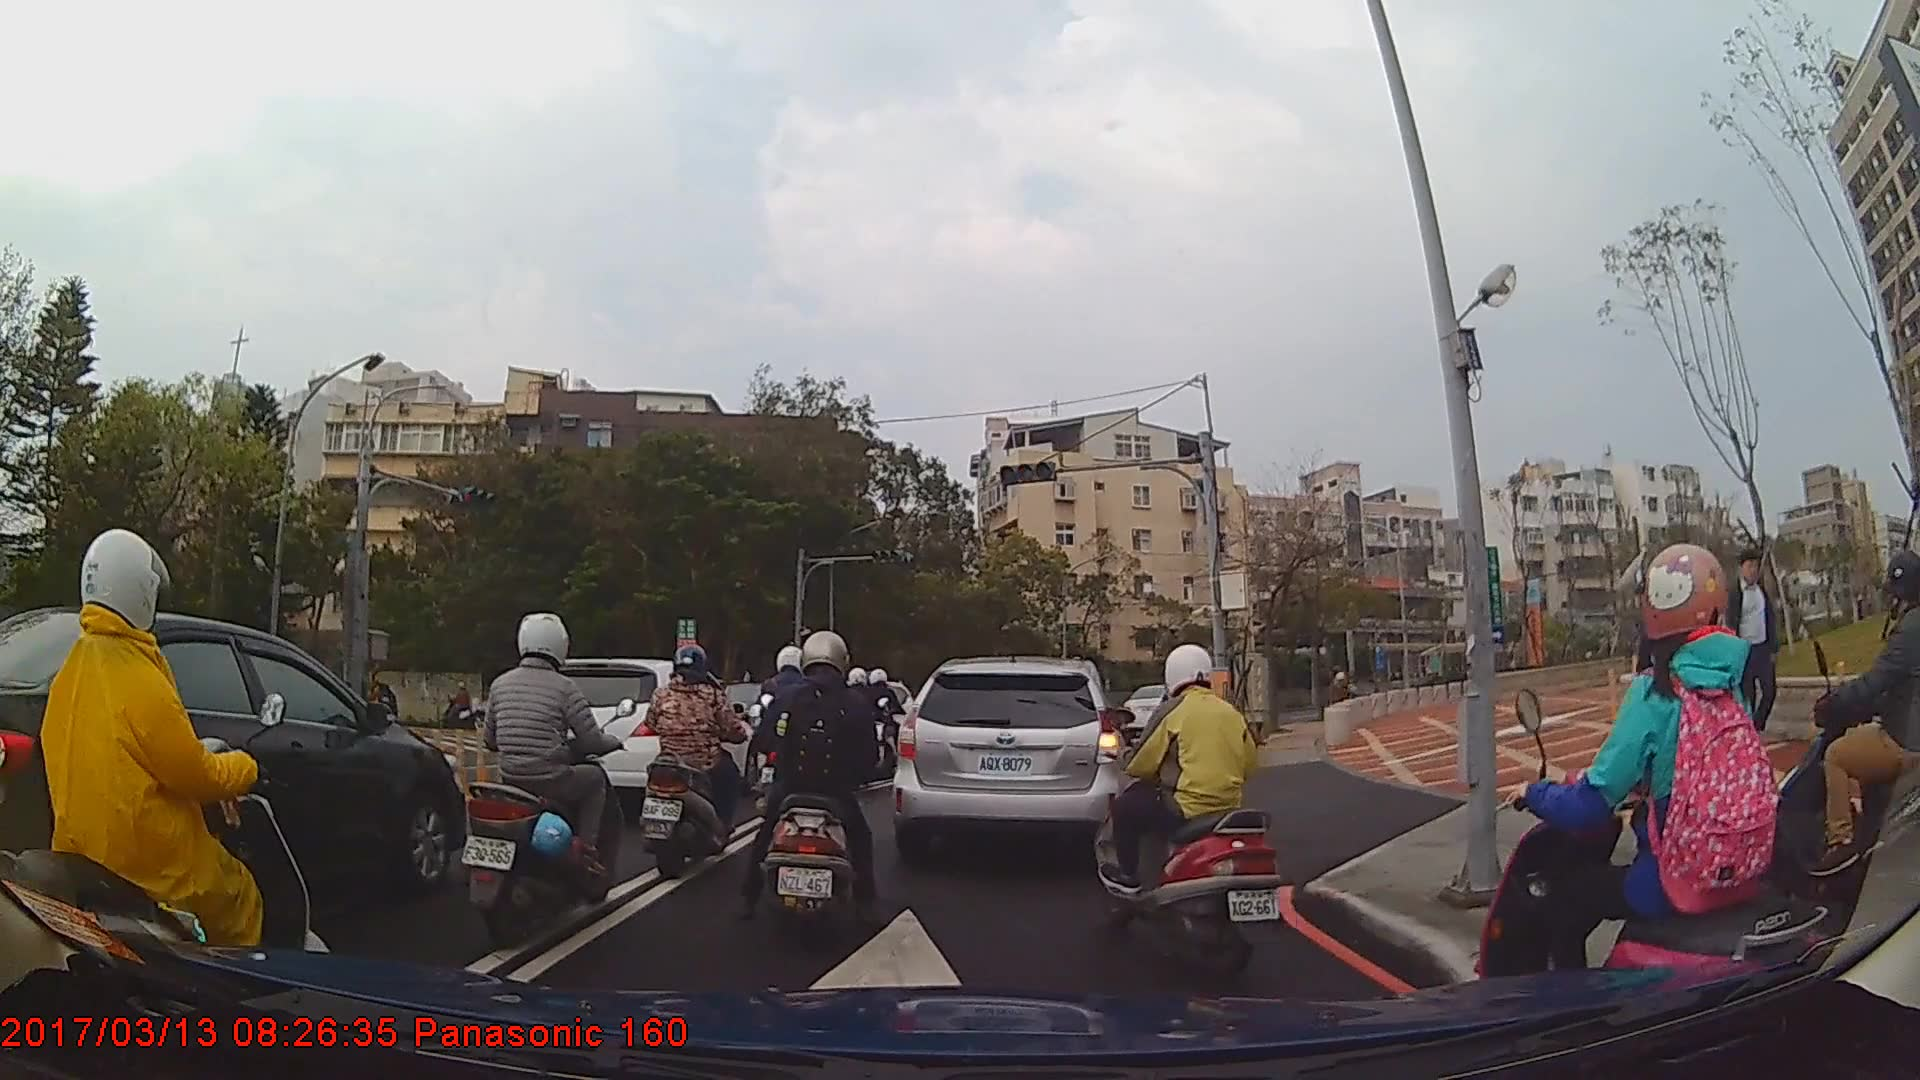rider: (1481, 538, 1819, 1054), (5, 530, 321, 1038), (1091, 642, 1285, 972), (457, 607, 619, 952), (1770, 548, 1918, 924), (748, 632, 888, 949), (636, 642, 753, 878), (751, 640, 834, 840)
vehicle: (0, 605, 466, 934), (888, 655, 1133, 855), (521, 656, 759, 817), (1120, 678, 1198, 739)
